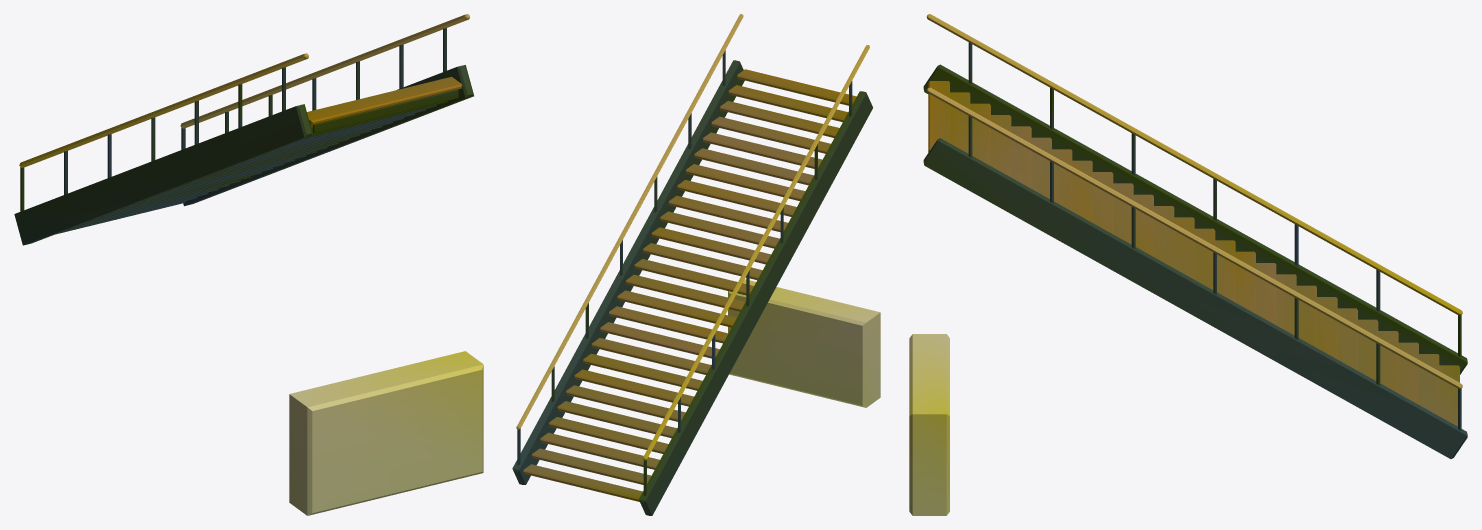
The model's file is GS_Footbridge_Stair.glb.
3 views of the same model, side by side, from view 1: azimuth 30°, elevation 25°; view 2: azimuth 150°, elevation 25°; view 3: azimuth 270°, elevation 25° (orthographic). The views are drawn at different scales.
Visible parts, largest first — view 1: GS_Footbridge_Stair; view 2: GS_Footbridge_Stair; view 3: GS_Footbridge_Stair.
Boxes of the visible parts, box(x1,y1,x2,y2) form: GS_Footbridge_Stair: box(14, 14, 483, 515); GS_Footbridge_Stair: box(512, 14, 880, 515); GS_Footbridge_Stair: box(909, 14, 1467, 515).
Size of the model in its own units: 2.8 by 6.89 by 8.22.
